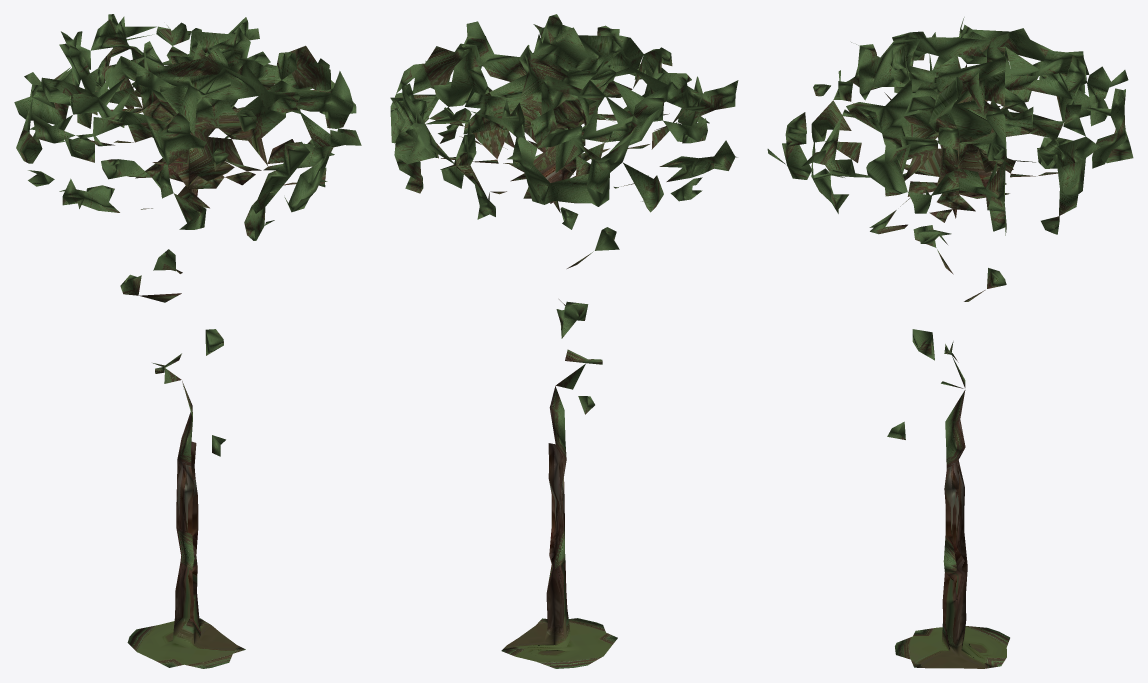
The model's file is araucaria_ra.glb.
3 renders of one model, left to right at view 1: azimuth 30°, elevation 25°; view 2: azimuth 150°, elevation 25°; view 3: azimuth 270°, elevation 25°, orthographic.
Parts seen in each view (by area): view 1: mesh_0; view 2: mesh_0; view 3: mesh_0.
Boxes of the visible parts, <box> form: mesh_0: <box>14,14,361,668</box>; mesh_0: <box>390,14,738,668</box>; mesh_0: <box>767,17,1133,668</box>.
Size of the model in its own units: 1.04 by 1.98 by 1.11.
1 material, 1 textured.
